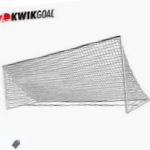goals: (2, 34, 150, 114)
